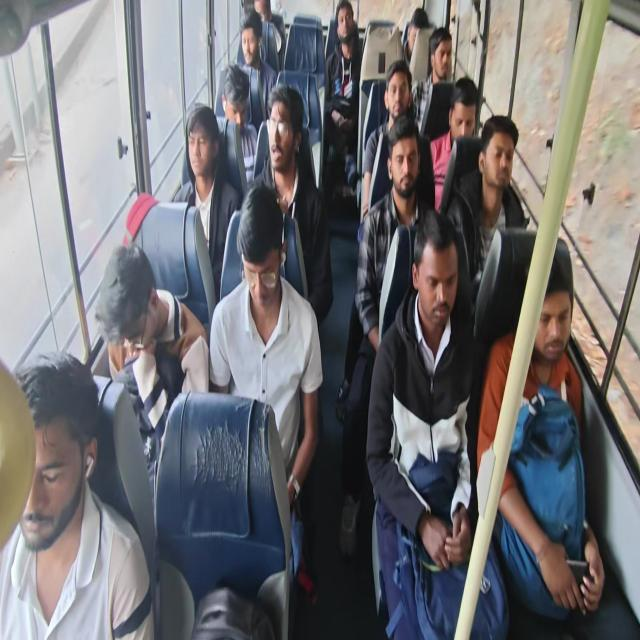person: (10, 372, 91, 543), (100, 256, 164, 362), (412, 234, 462, 336), (530, 270, 574, 362), (233, 212, 280, 293), (265, 94, 302, 178), (182, 107, 215, 185), (216, 72, 253, 130), (388, 143, 418, 196), (488, 135, 516, 183), (331, 0, 357, 48), (454, 79, 471, 141), (409, 8, 428, 62), (240, 22, 262, 64), (391, 63, 406, 118), (433, 43, 450, 85), (250, 0, 272, 30)
